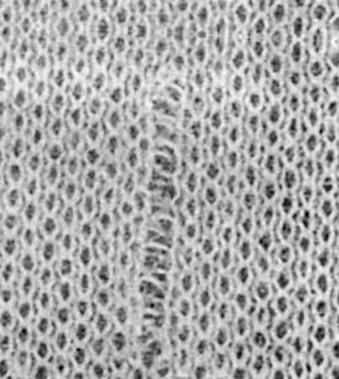slub: (134, 142, 181, 355)
